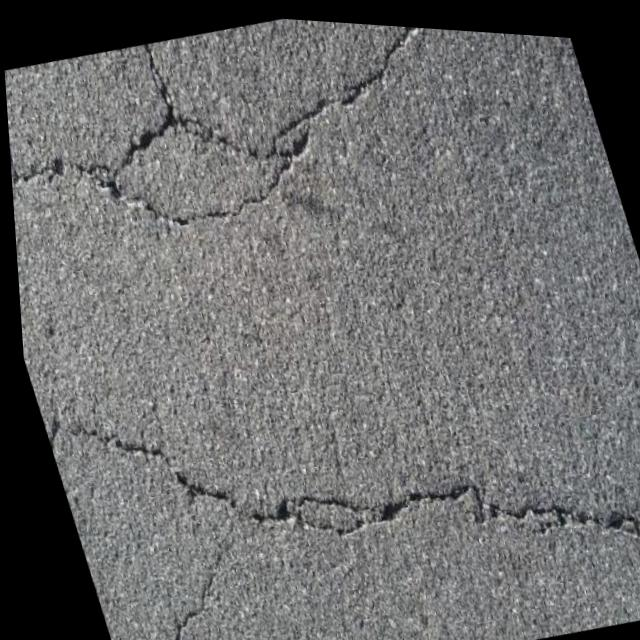Crack: (25, 254, 640, 640), (0, 0, 615, 308)
